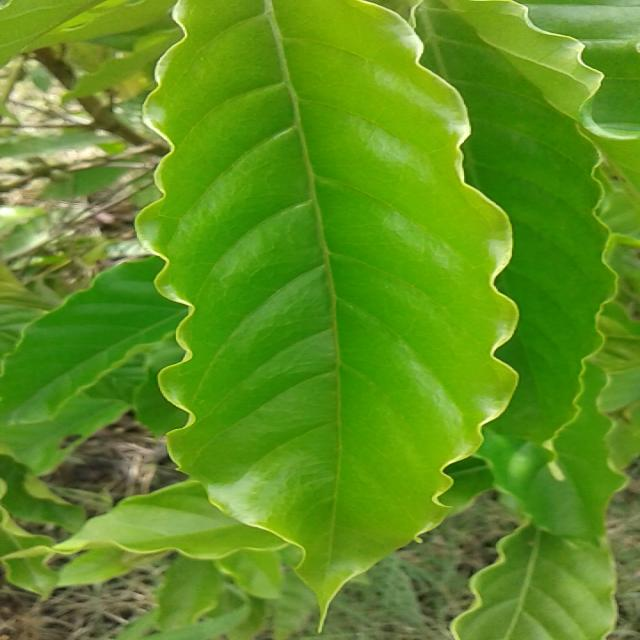Sanas: (134, 0, 520, 624)
